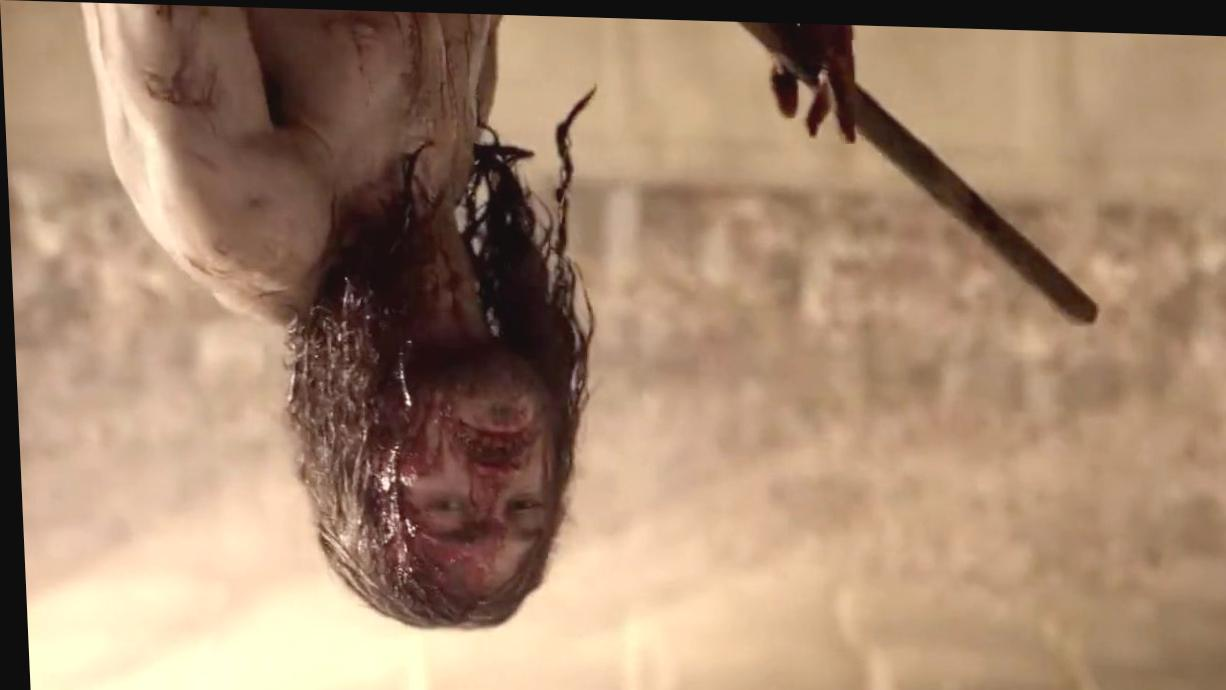Fire: (393, 341, 553, 591)
